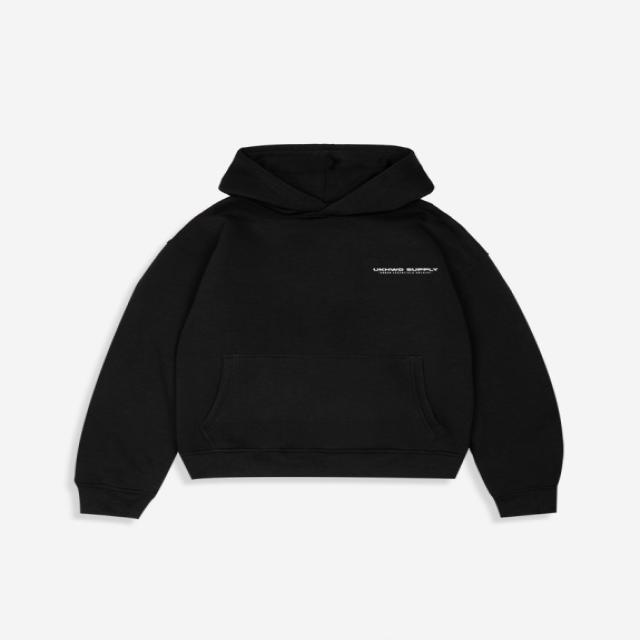sweater: (73, 140, 569, 523)
